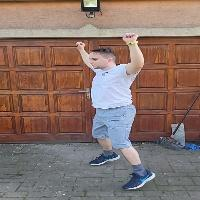jumping_jacks: (66, 30, 163, 192)
